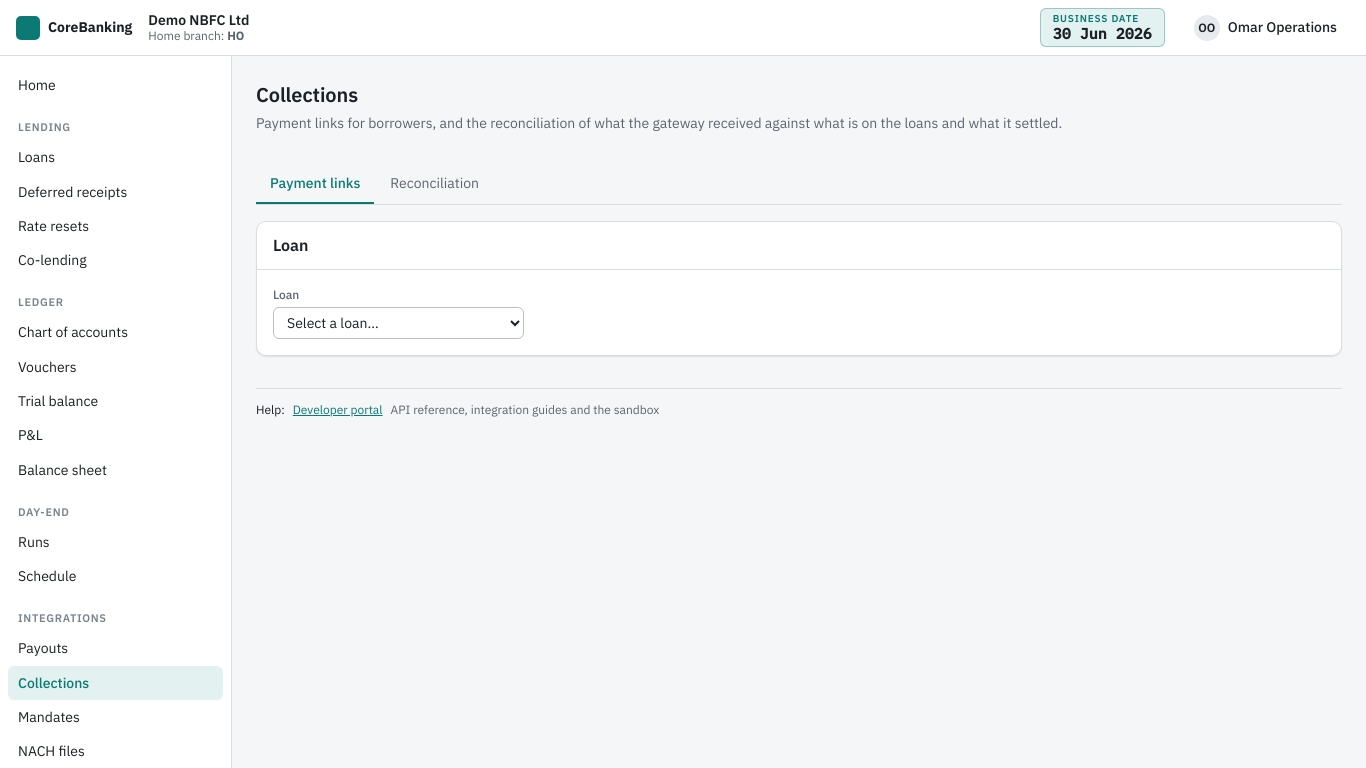
Test: collections › reconciliation shows what is unmatched in both directions, and an unmatched receipt is resolved with a note
Click the tab "Reconciliation": (435, 184) [376,165,493,204]
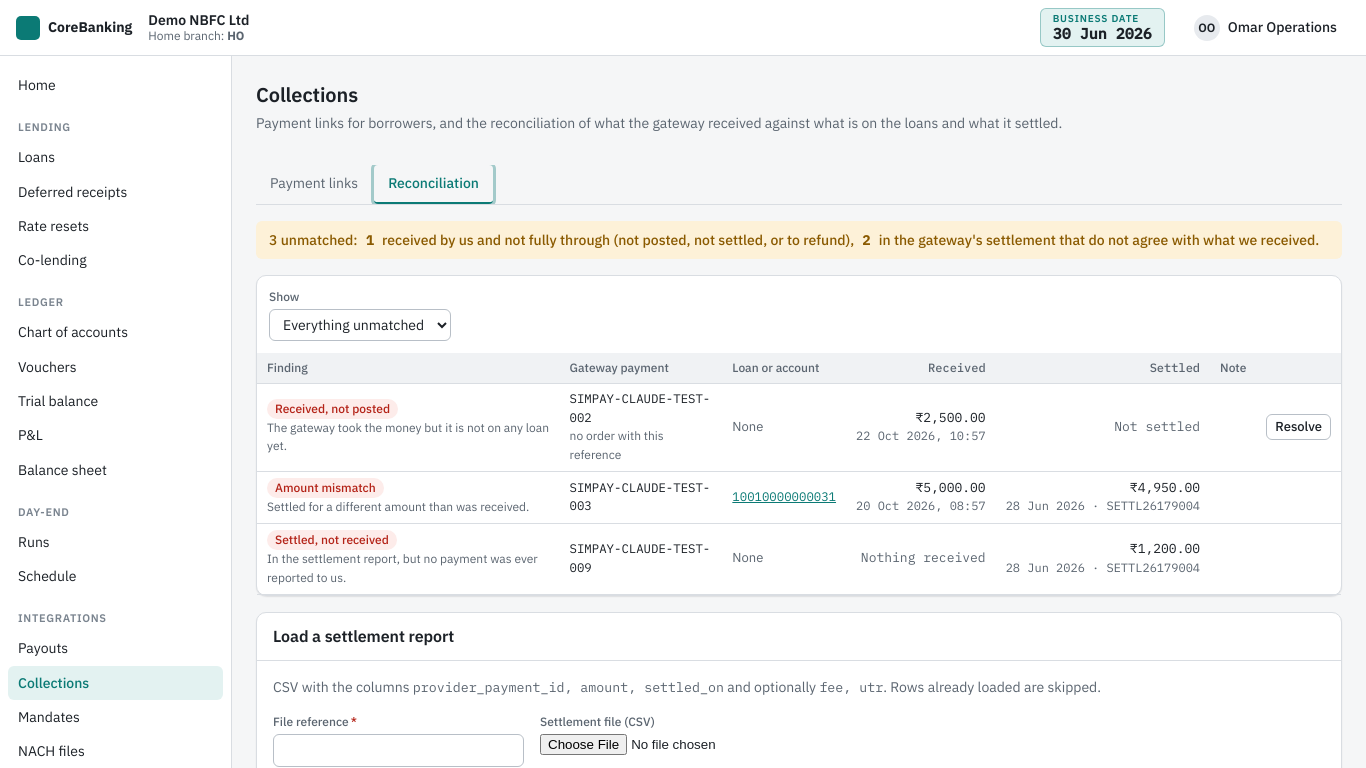
expect the text "3 unmatched" shows "1 received by us and not fully through (not posted, not settled, or to refund), 2 in the gateway's settlement": met, box [256,221,1342,259]
expect the text "Received, not posted" is shown: met, box [267,398,398,418]
expect the text "Settled, not received" is shown: met, box [267,530,397,550]
Click the button with aria-label "Resolve SIMPAY-CLAUDE-TEST-002": (1299, 427) [1266,414,1331,440]
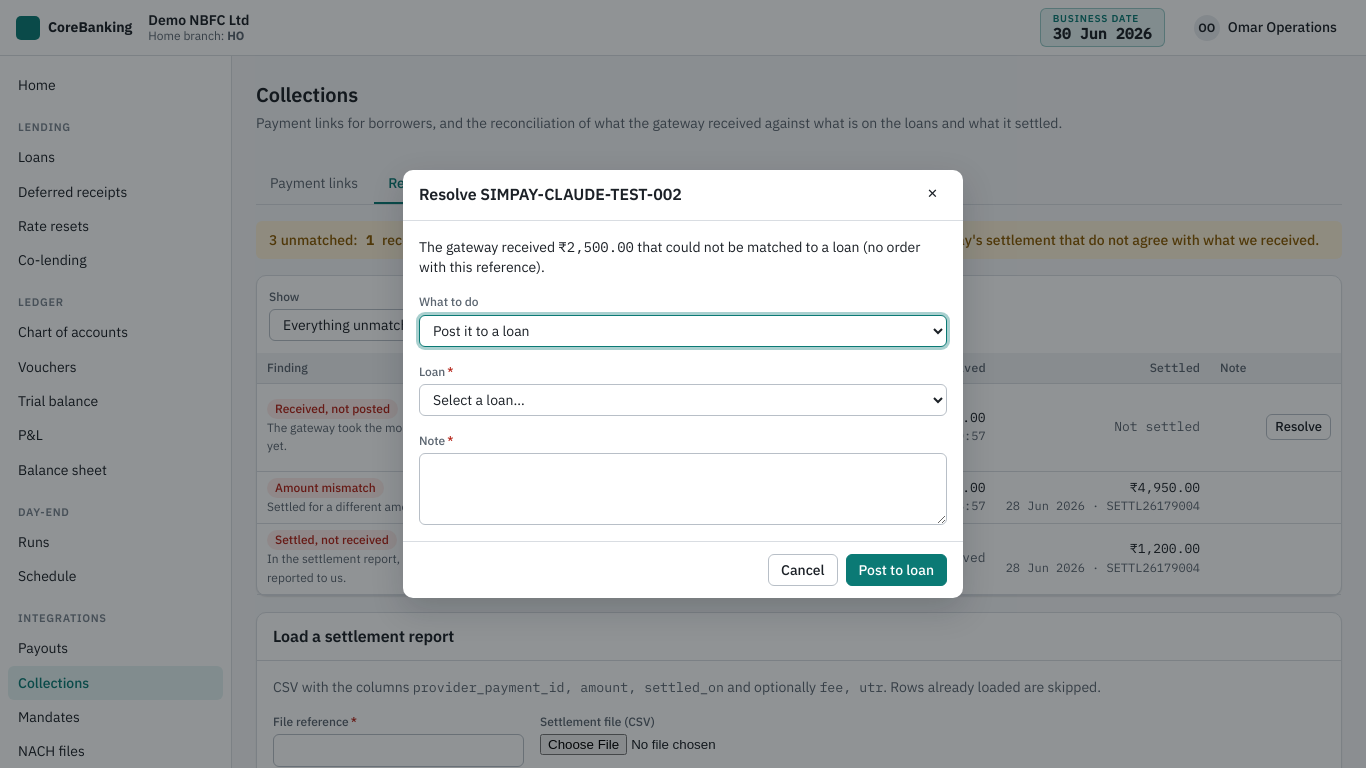
Select "Mark it for refund" in the dropdown labelled "What to do": (683, 331) [419,315,947,347]
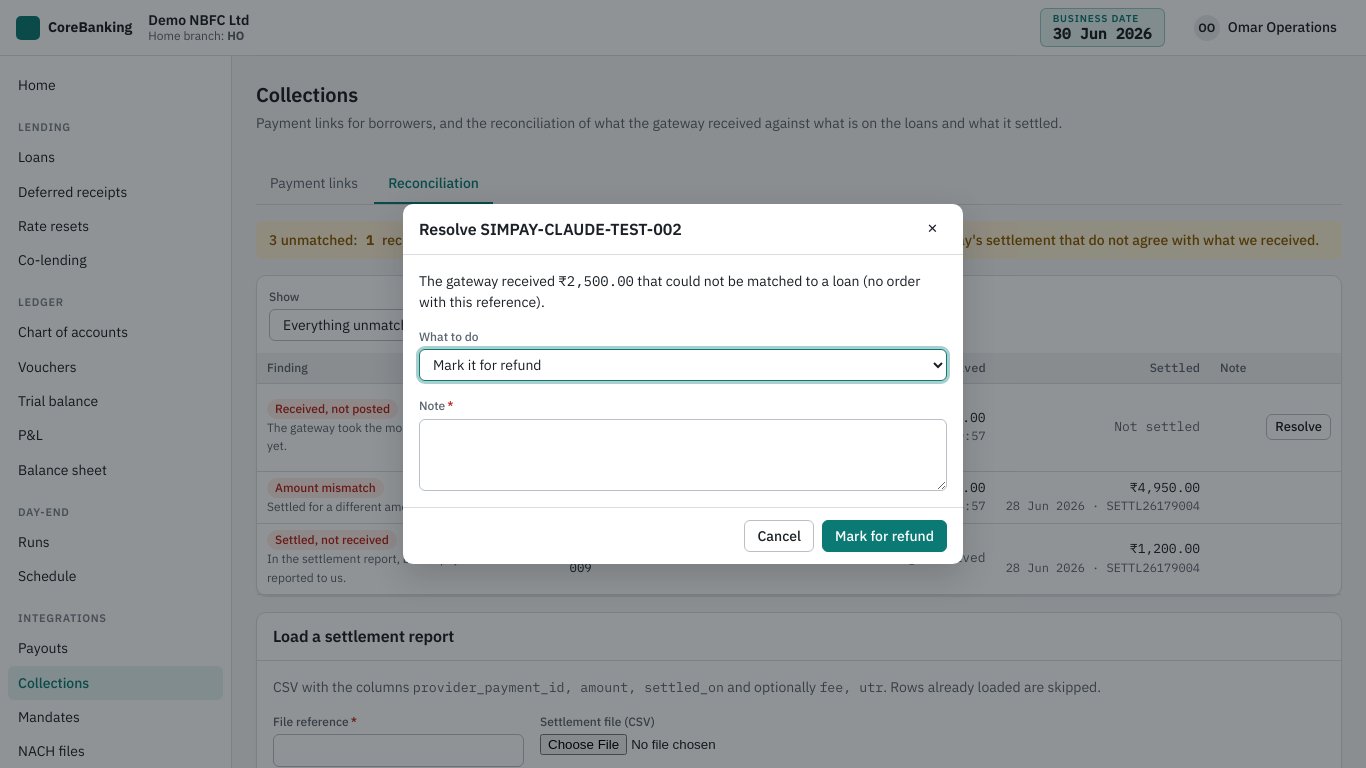
Click the button "Mark for refund": (884, 536) [822,520,947,552]
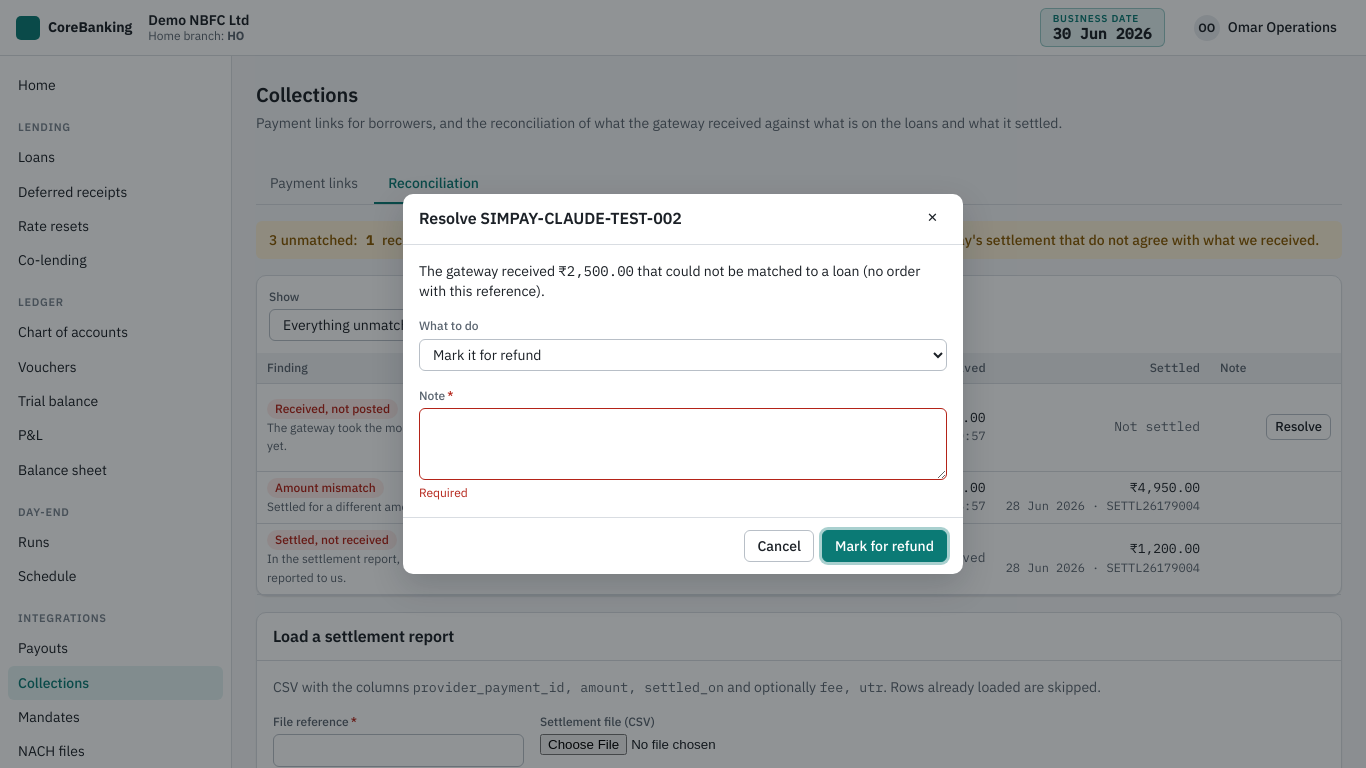
expect the text "Required" is shown: met, box [419,485,468,500]
In the text box labelled "Note*": (683, 444) [419,408,947,480], type "Payer not identified CLAUDE-TEST"
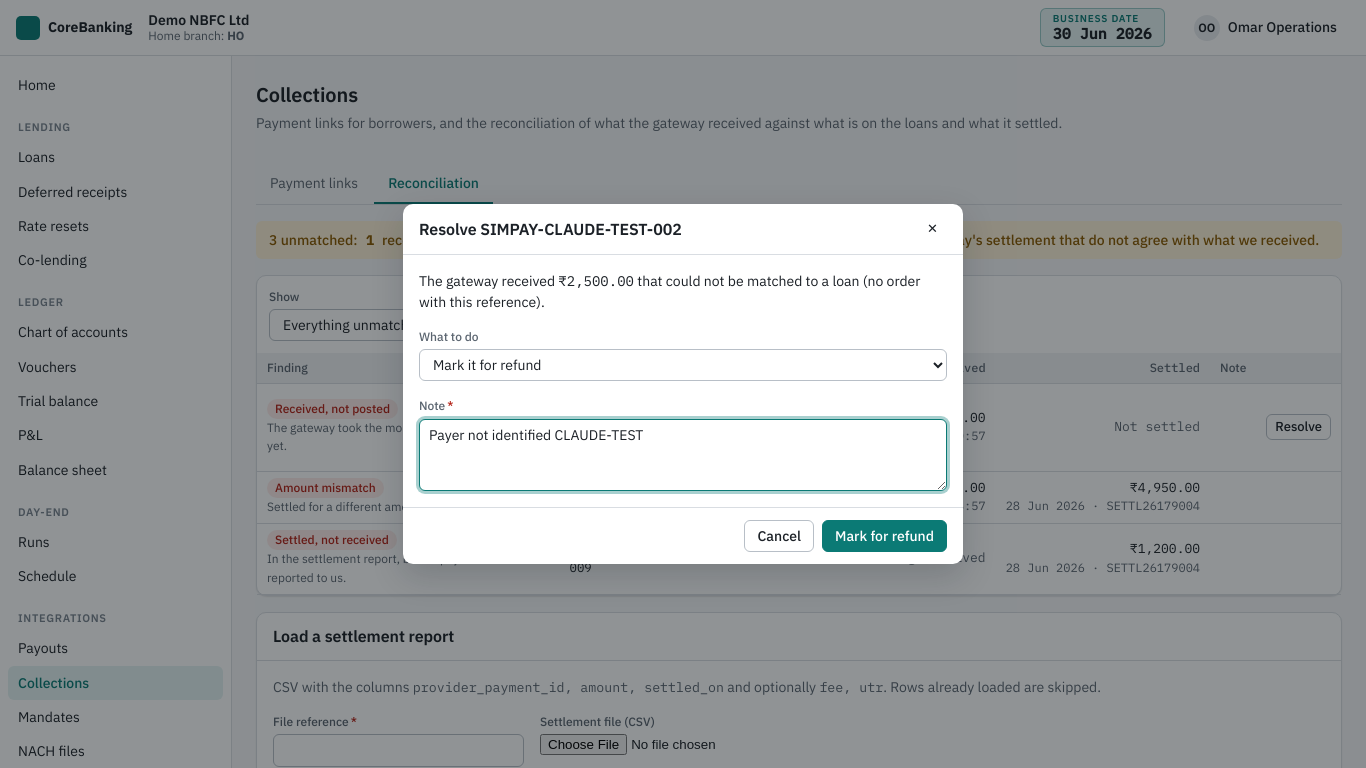
Click the button "Mark for refund": (884, 536) [822,520,947,552]
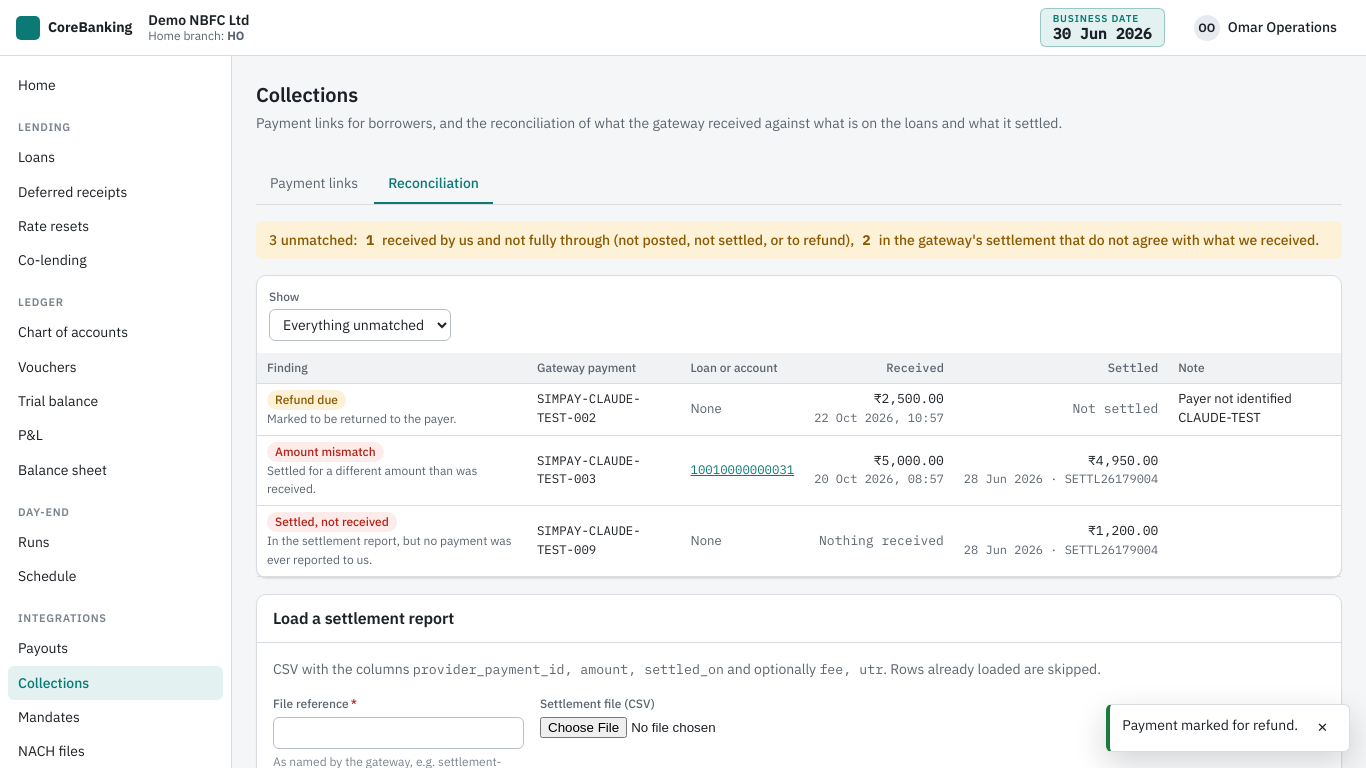
expect the text "Payment marked for refund." is shown: met, box [1122,715,1298,735]
expect the text "Refund due" is shown: met, box [267,390,346,410]
